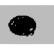correct: (4, 12, 44, 41)
